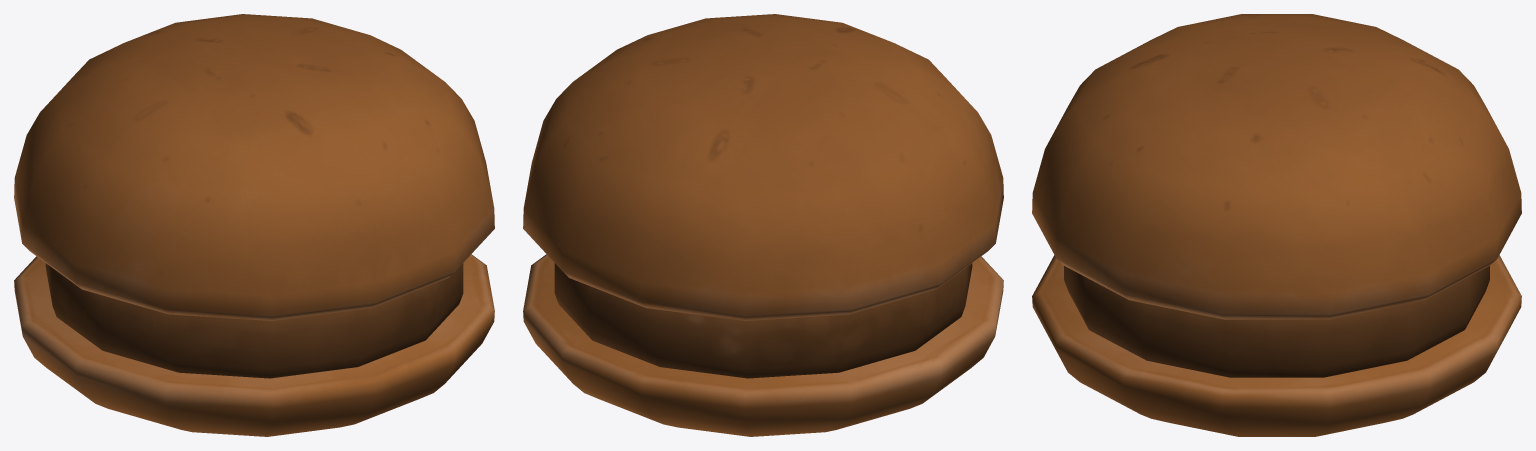
Rendered from MSH_Hamburguesa_P_C.fbx.
3 views of the same model, side by side, from view 1: azimuth 30°, elevation 25°; view 2: azimuth 150°, elevation 25°; view 3: azimuth 270°, elevation 25° (orthographic).
Parts seen in each view (by area): view 1: MSH_Hamburguesa_P_C; view 2: MSH_Hamburguesa_P_C; view 3: MSH_Hamburguesa_P_C.
Boxes of the visible parts, box(x1,y1,x2,y2) form: MSH_Hamburguesa_P_C: box(14, 14, 494, 436); MSH_Hamburguesa_P_C: box(523, 14, 1003, 436); MSH_Hamburguesa_P_C: box(1032, 14, 1521, 436).
Size of the model in its own units: 14.42 by 14.79 by 10.54.
1 material, 1 textured.
